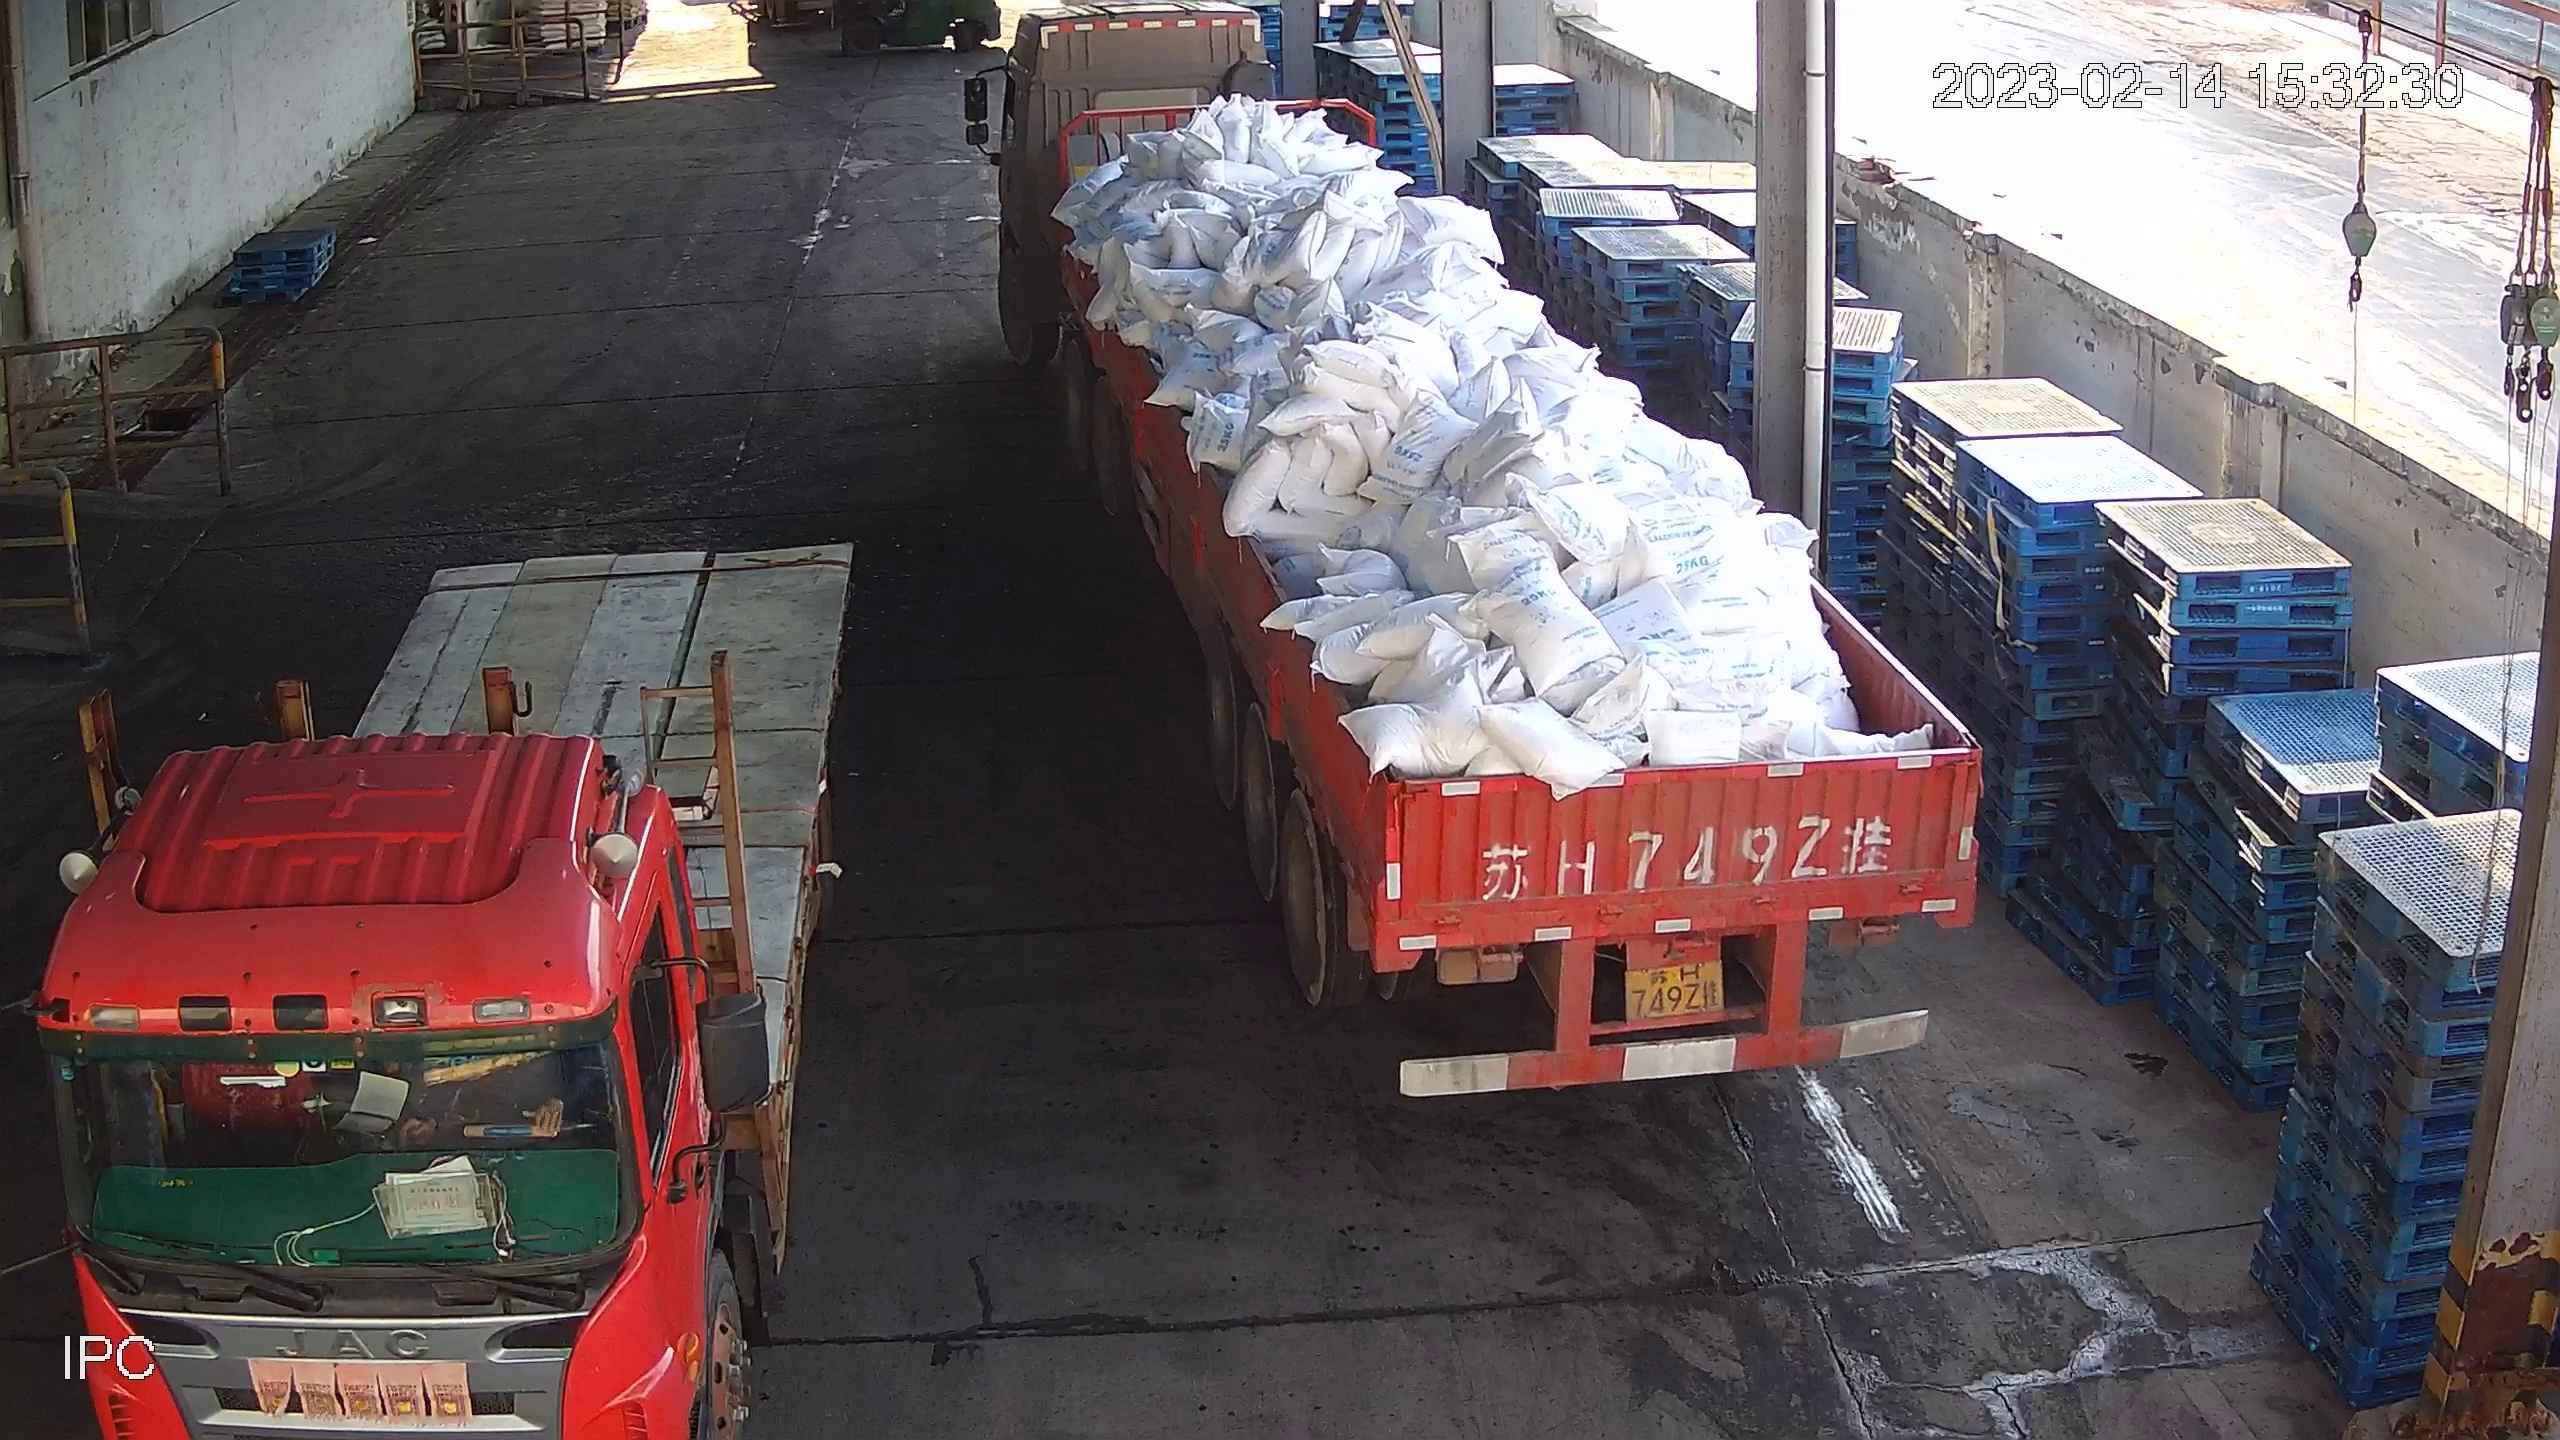truck: (958, 2, 1994, 1120), (2, 506, 884, 1440)
